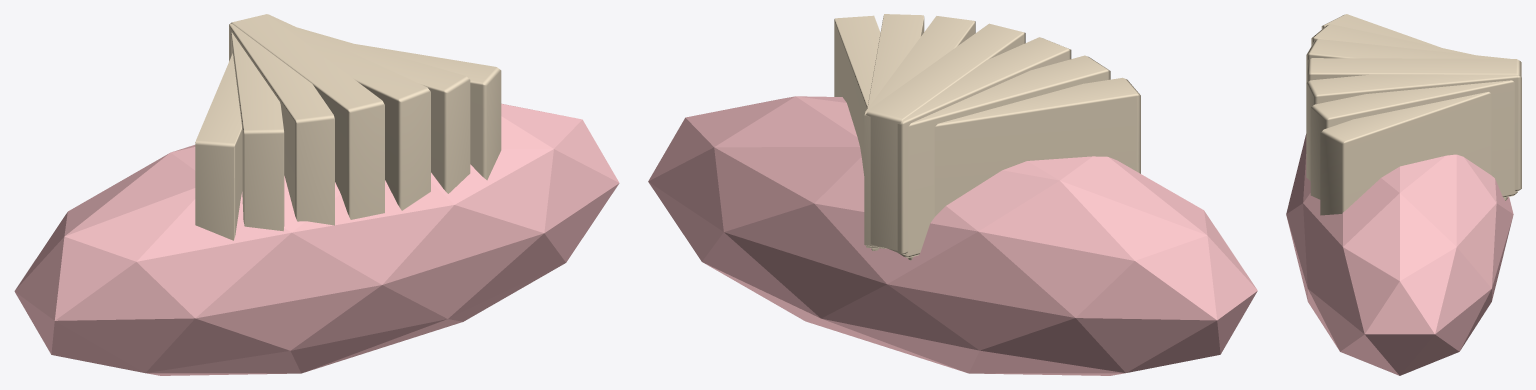
Rendered from shell.glb.
The picture shows the model from 3 angles, left to right: view 1: azimuth 30°, elevation 25°; view 2: azimuth 150°, elevation 25°; view 3: azimuth 270°, elevation 25°; orthographic projection. The views are drawn at different scales.
Parts seen in each view (by area): view 1: shell back, rib.003, rib.002, rib.004, rib.001, rib, rib.005, rib.006; view 2: shell back, rib, rib.003, rib.001, rib.002, rib.006, rib.004, rib.005; view 3: shell back, rib.006, rib.005, rib.004, rib.003, rib.002, rib.001, rib.
Boxes of the visible parts, x1=… form: shell back: x1=14, y1=103, x2=619, y2=375; rib.003: x1=230, y1=14, x2=384, y2=219; rib.002: x1=229, y1=23, x2=334, y2=225; rib.004: x1=268, y1=14, x2=430, y2=210; rib.001: x1=231, y1=32, x2=284, y2=231; rib: x1=195, y1=53, x2=242, y2=240; rib.005: x1=298, y1=27, x2=470, y2=193; rib.006: x1=355, y1=44, x2=501, y2=180; shell back: x1=648, y1=96, x2=1257, y2=375; rib: x1=908, y1=77, x2=1140, y2=260; rib.003: x1=866, y1=23, x2=1025, y2=250; rib.001: x1=898, y1=55, x2=1110, y2=257; rib.002: x1=889, y1=37, x2=1071, y2=254; rib.006: x1=834, y1=15, x2=880, y2=250; rib.004: x1=864, y1=16, x2=975, y2=247; rib.005: x1=866, y1=14, x2=924, y2=248; shell back: x1=1286, y1=134, x2=1513, y2=375; rib.006: x1=1320, y1=92, x2=1507, y2=215; rib.005: x1=1310, y1=80, x2=1517, y2=199; rib.004: x1=1306, y1=74, x2=1521, y2=191; rib.003: x1=1307, y1=58, x2=1520, y2=81; rib.002: x1=1306, y1=39, x2=1521, y2=82; rib.001: x1=1311, y1=24, x2=1475, y2=55; rib: x1=1321, y1=14, x2=1440, y2=47.
Bounding box in the file's own units: 0.7989 × 0.39 × 0.3316.
